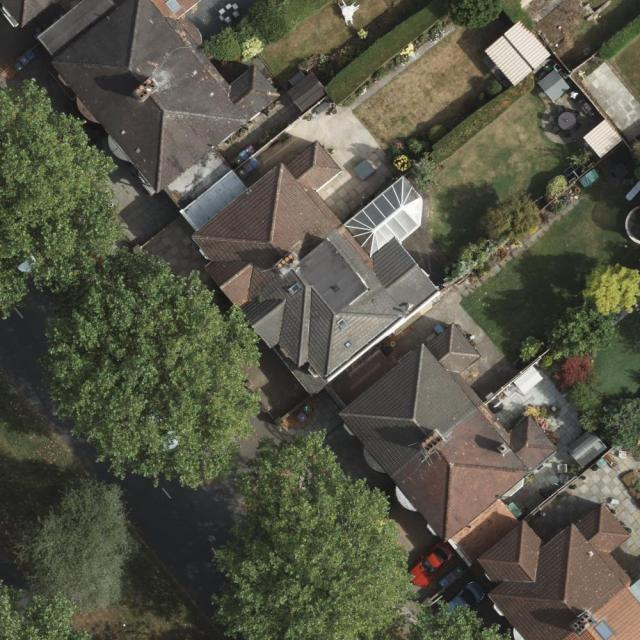roof: (338, 320, 639, 640), (182, 137, 439, 401), (32, 0, 281, 194), (0, 0, 61, 29)
skylight: (343, 176, 423, 259), (592, 618, 615, 640), (165, 0, 183, 15), (287, 281, 302, 296), (335, 317, 348, 332)
